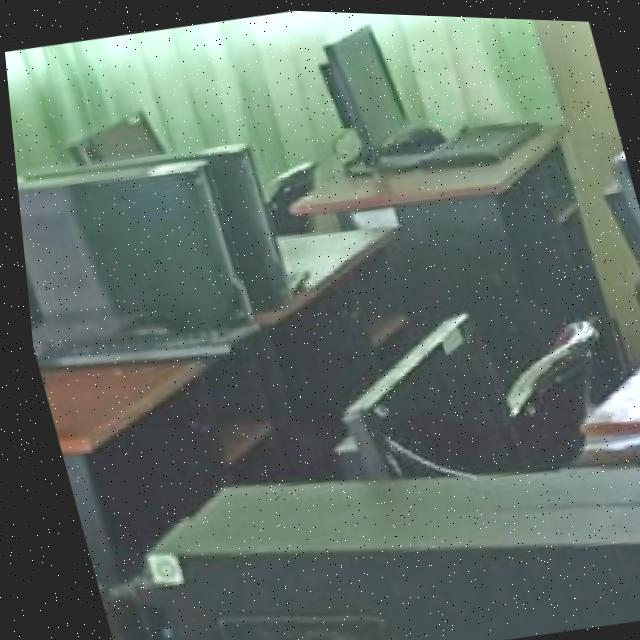offscreen: (318, 22, 404, 142)
